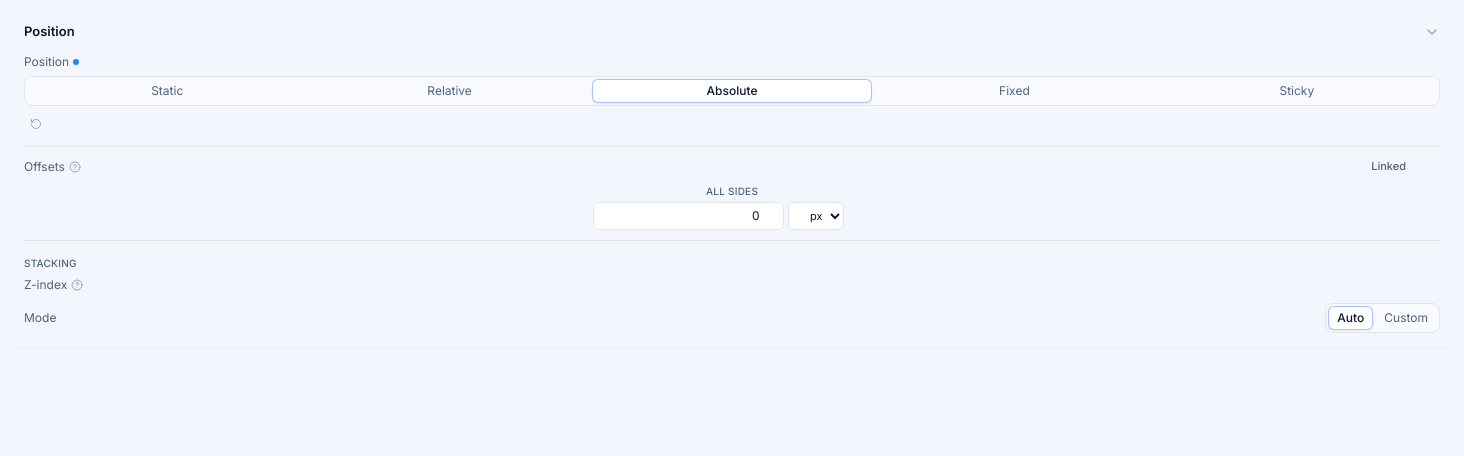
Test case: InspectorPositionSection — Offsets subsection (Checkpoint 5.2) › accessibility and keyboard interaction › labels every offset field and its reset button distinctly
Click the button "Linked" at [1389, 166], box [1365,154,1412,178]
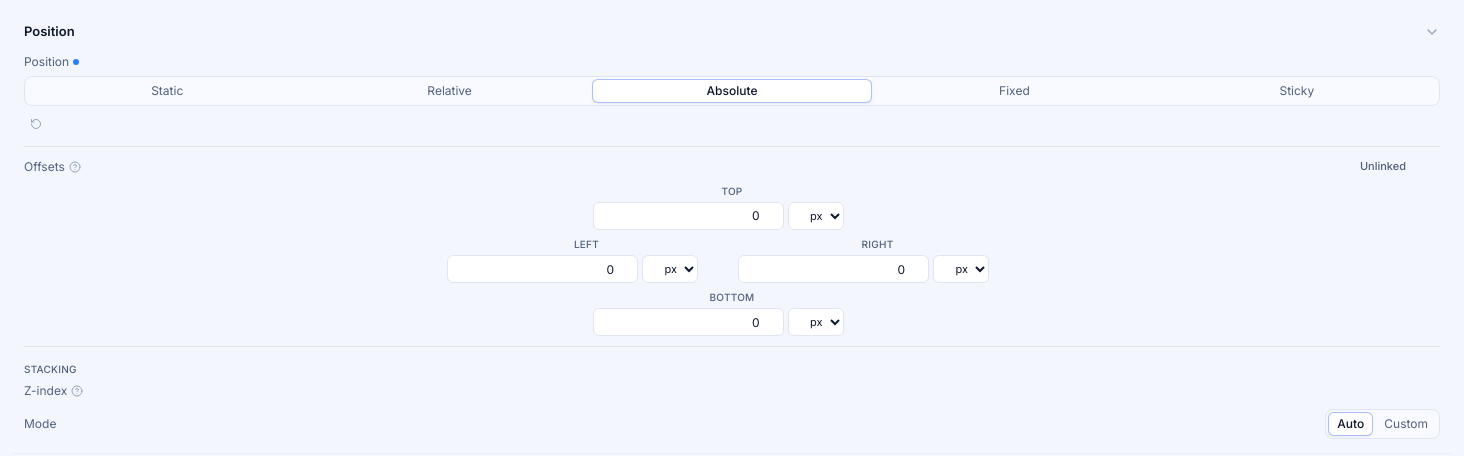
Result: the number field named "Right" is shown at [738,255,929,283]
Result: the number field named "Bottom" is shown at [592,308,784,336]
Result: the number field named "Left" is shown at [447,255,638,283]
